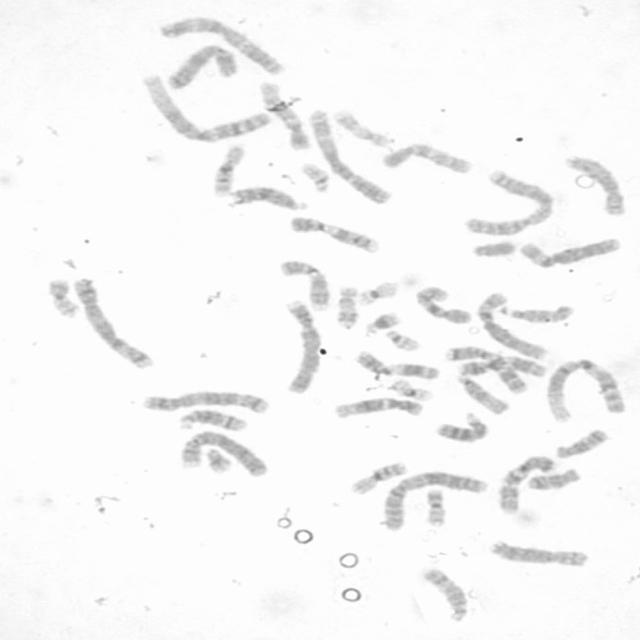A1: (140, 73, 272, 145), (545, 357, 628, 424)
A2: (381, 469, 491, 532), (463, 169, 555, 238)
A3: (307, 109, 396, 207), (156, 16, 288, 77)
B4: (178, 430, 270, 479), (282, 299, 324, 395)
B5: (73, 276, 156, 371), (142, 390, 270, 414)
C10: (379, 142, 474, 174), (413, 284, 472, 325)
C11: (351, 348, 441, 382), (456, 355, 549, 379)
C12: (257, 80, 312, 151), (329, 397, 427, 419)
C6: (474, 290, 550, 360), (518, 236, 622, 270)
C7: (446, 345, 532, 396), (496, 454, 559, 518)
C8: (563, 153, 628, 216), (486, 539, 590, 568)
C9: (288, 215, 379, 254), (276, 258, 331, 314)
D13: (228, 185, 310, 212), (433, 411, 491, 444)
D14: (421, 568, 472, 624), (177, 409, 249, 432)
D15: (454, 374, 512, 416), (497, 303, 573, 324)
E16: (349, 460, 409, 498), (211, 144, 247, 197)
E17: (332, 107, 397, 151), (335, 285, 360, 330)
E18: (555, 430, 610, 460), (524, 467, 582, 491)
F19: (354, 281, 398, 307), (388, 378, 434, 402)
F20: (47, 277, 82, 319), (425, 488, 446, 528)
G21: (362, 311, 400, 339), (204, 446, 236, 476)
G22: (302, 161, 332, 193), (384, 328, 421, 353)
X: (166, 43, 240, 90)
Y: (470, 239, 516, 260)
